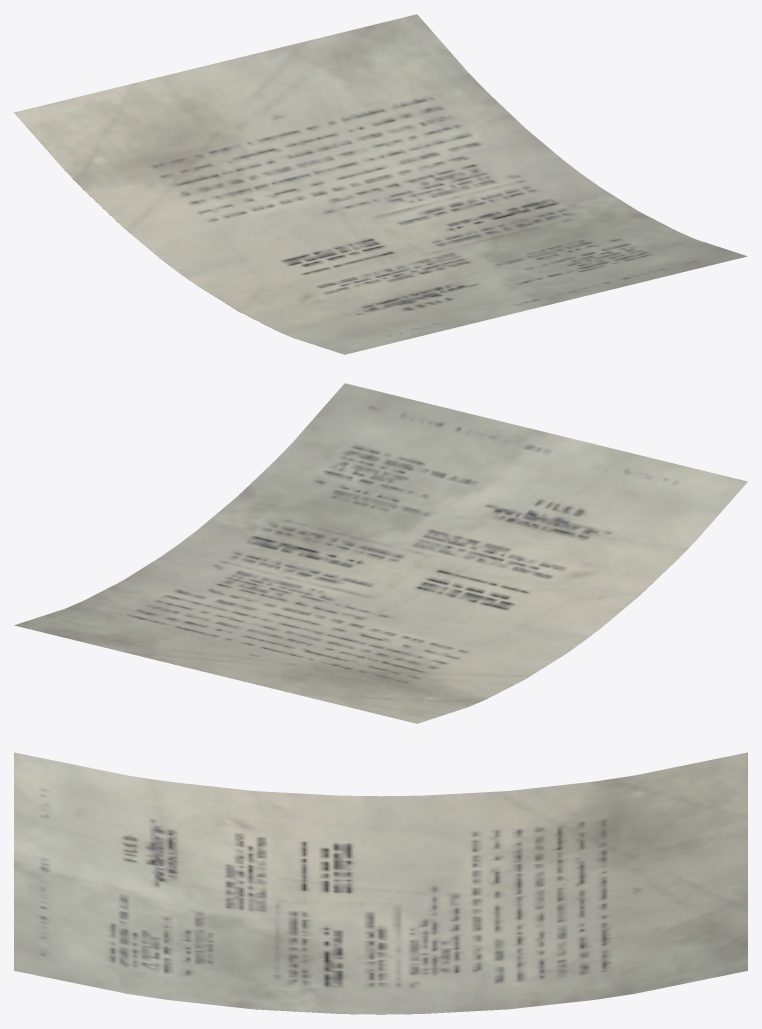
File: Paper_O.obj
3 renders of one model, top to bottom at view 1: azimuth 30°, elevation 25°; view 2: azimuth 150°, elevation 25°; view 3: azimuth 270°, elevation 25°, orthographic. The views are drawn at different scales.
Visible parts, largest first — view 1: Paper_O; view 2: Paper_O; view 3: Paper_O.
Boxes of the visible parts, box(x1,y1,x2,y2) form: Paper_O: box(14, 14, 747, 354); Paper_O: box(14, 383, 747, 723); Paper_O: box(14, 752, 747, 1014).
Size of the model in its own units: 12.35 by 1.16 by 17.56.
